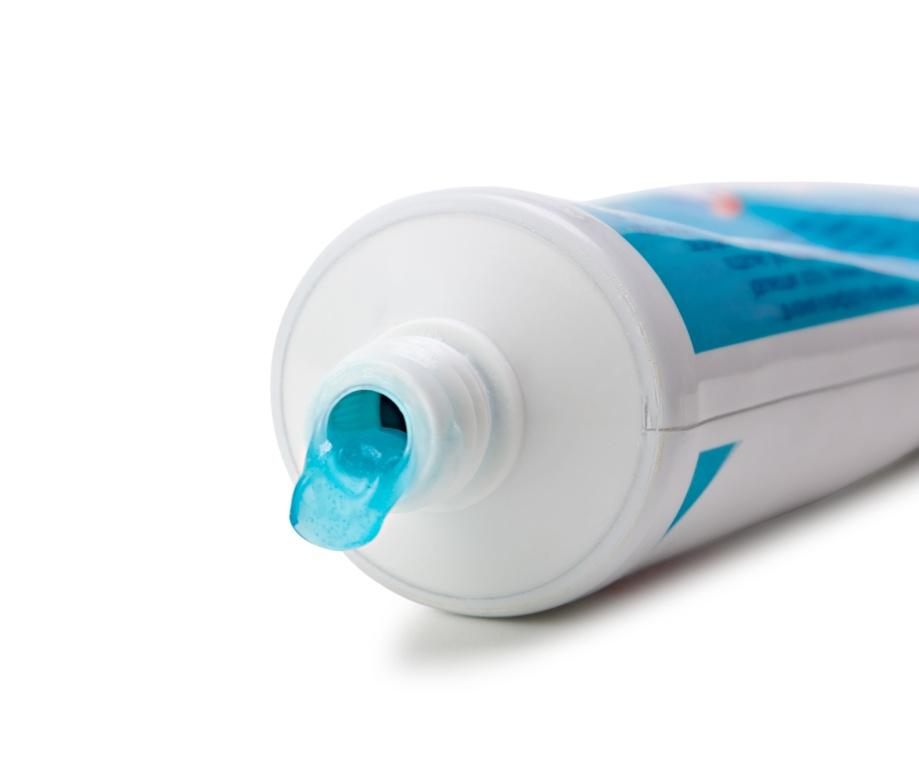toothpaste: (235, 123, 919, 651)
